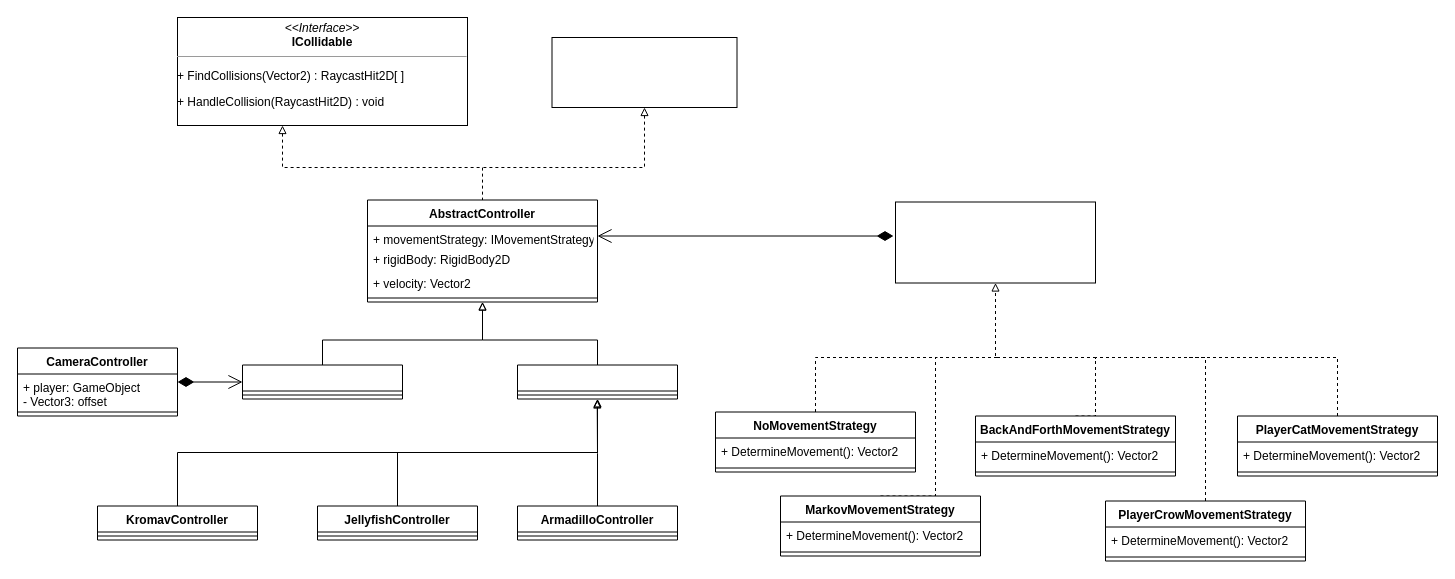
Some shapes in this 1455 by 579 pixel diagram are drawn without their labels. Each missing label, with the centre of its shape:
<<Interface>> IMovable + Move(Vector2): void: (644,72)
<<Interface>> IMovementStrategy + DetermineMovement(): Vector2: (995,242)
EnemyController: (597,381)
PlayerController: (322,381)
